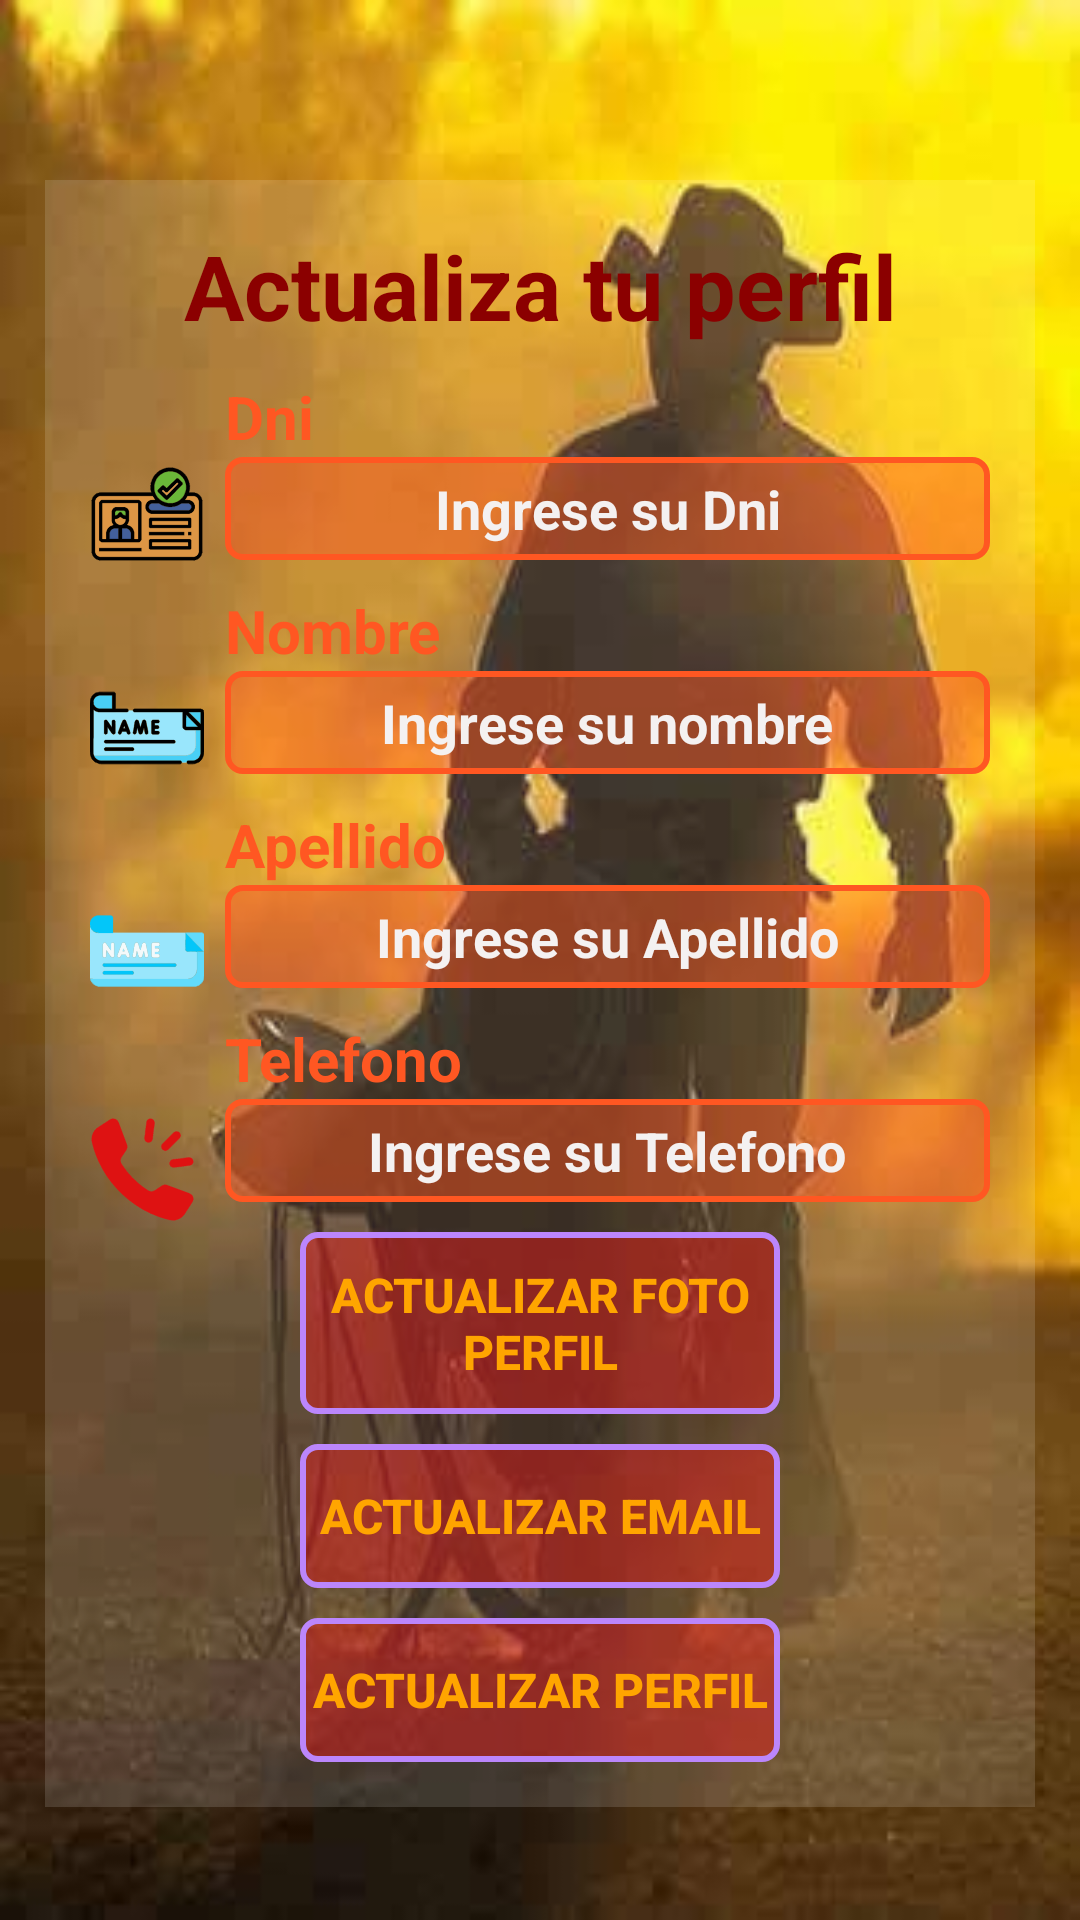

Where to tap for icons on this 1080×1920 app screen, as (x,y):
dni registro: (147,514)
phone register: (143,1169)
subname register: (147,940)
